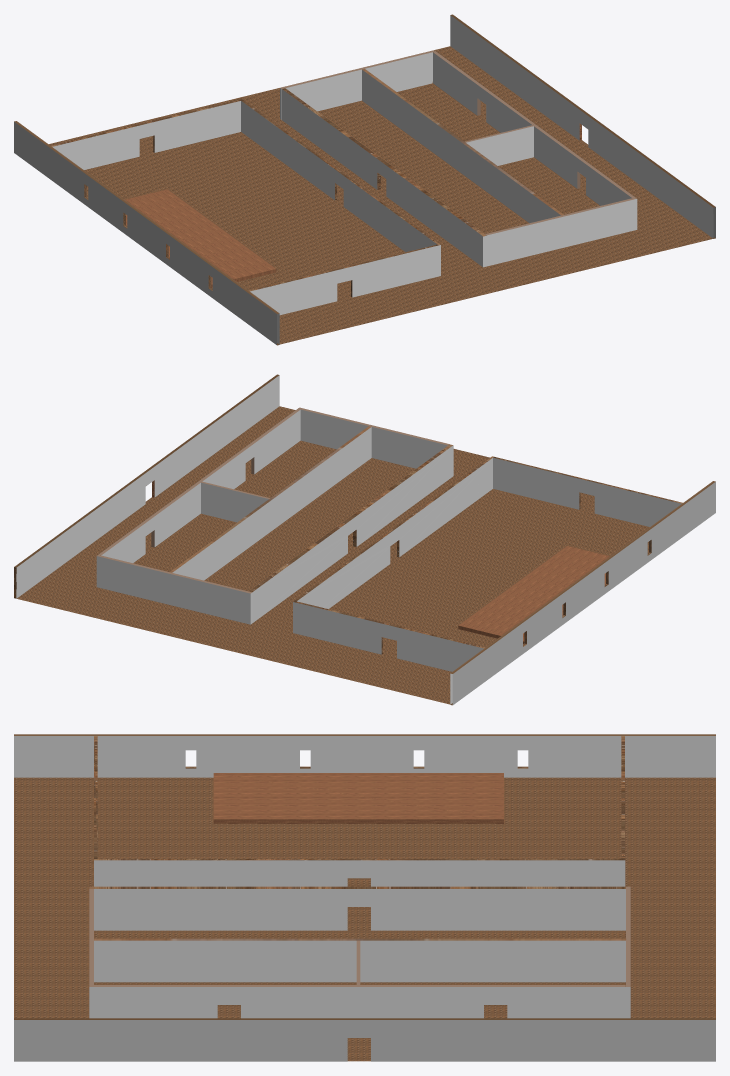
File: middle_building.fbx
3 views of the same model, one above another, from view 1: azimuth 30°, elevation 25°; view 2: azimuth 150°, elevation 25°; view 3: azimuth 270°, elevation 25° (orthographic). The views are drawn at different scales.
Visible parts, largest first — view 1: Classroom 1.009; view 2: Classroom 1.009; view 3: Classroom 1.009.
Boxes of the visible parts, box(x1,y1,x2,y2) form: Classroom 1.009: box(14, 14, 715, 345); Classroom 1.009: box(14, 374, 715, 705); Classroom 1.009: box(14, 734, 715, 1061).
Bounding box in the file's own units: 10046 × 686 × 10433.
